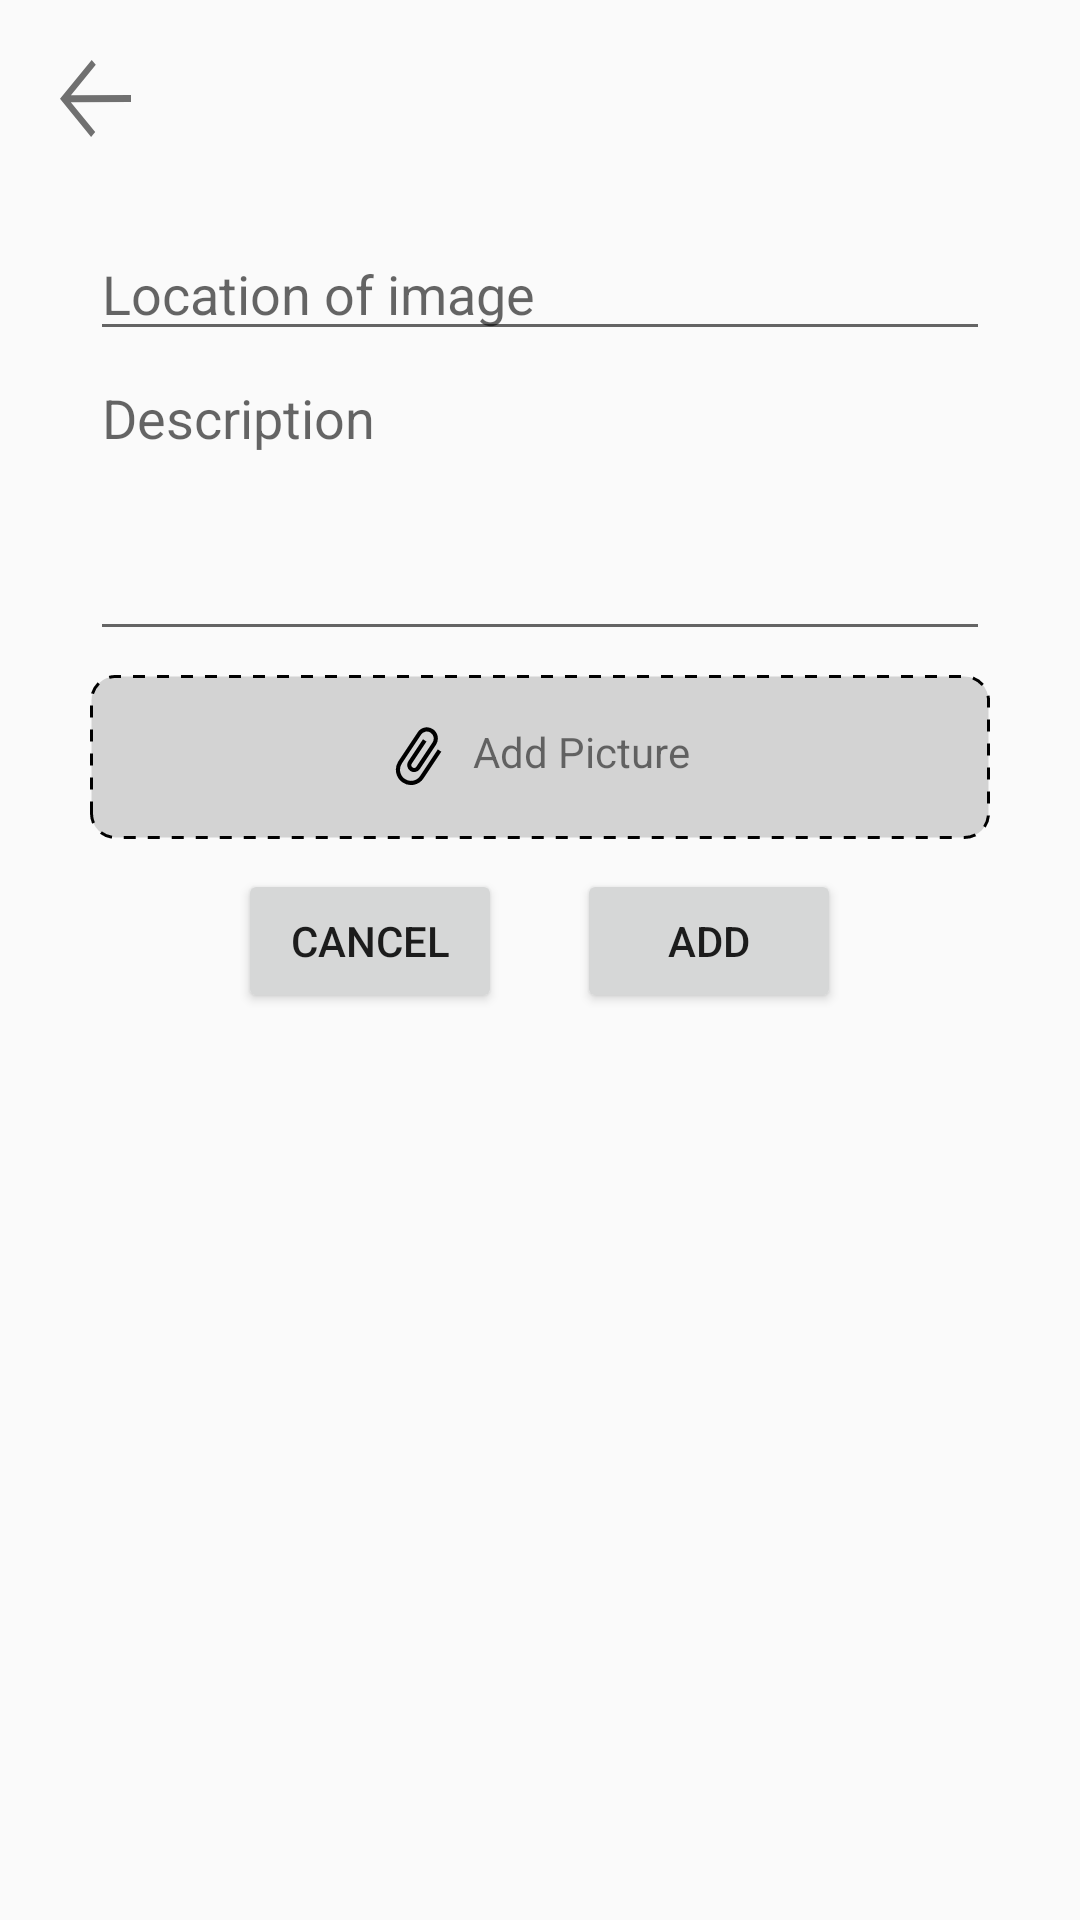

Locate icon controls on the screen. Image size 1080 x 1920, boxes as [x1, y1, x2, y2].
back: [60, 60, 131, 137]
